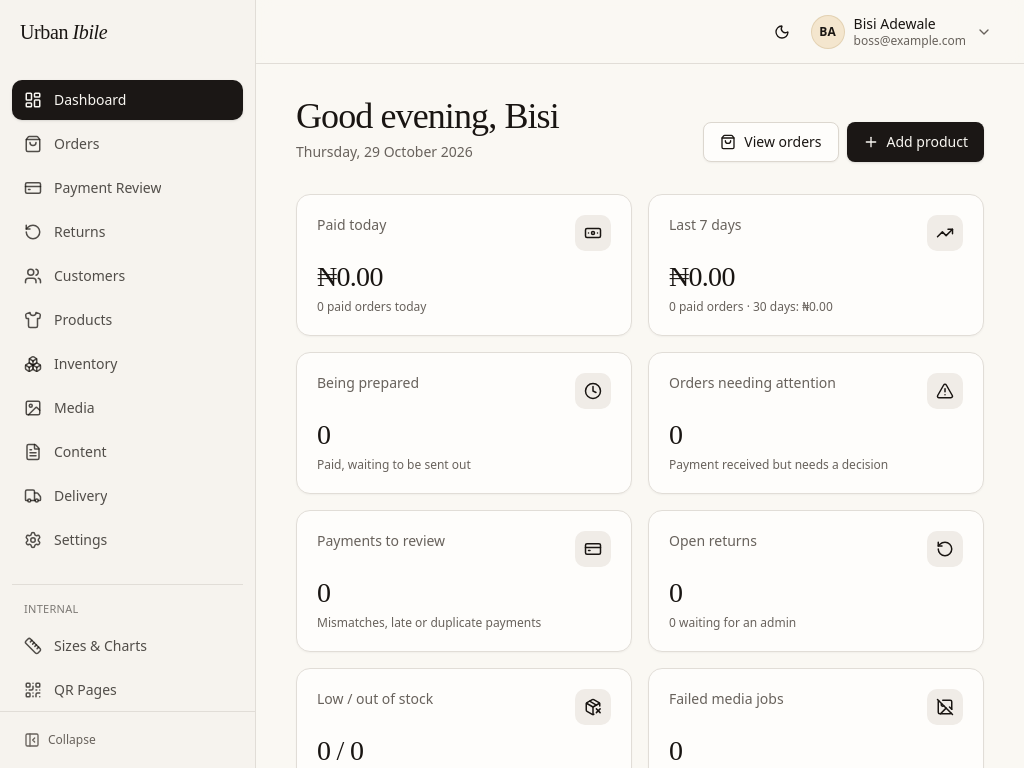
Sizes & Charts section › is in the sidebar and opens the Size Charts tab on the active version
The width and height of the screenshot is (1024, 768).
Click the link "Sizes & Charts": click(85, 645) [24,636,147,654]
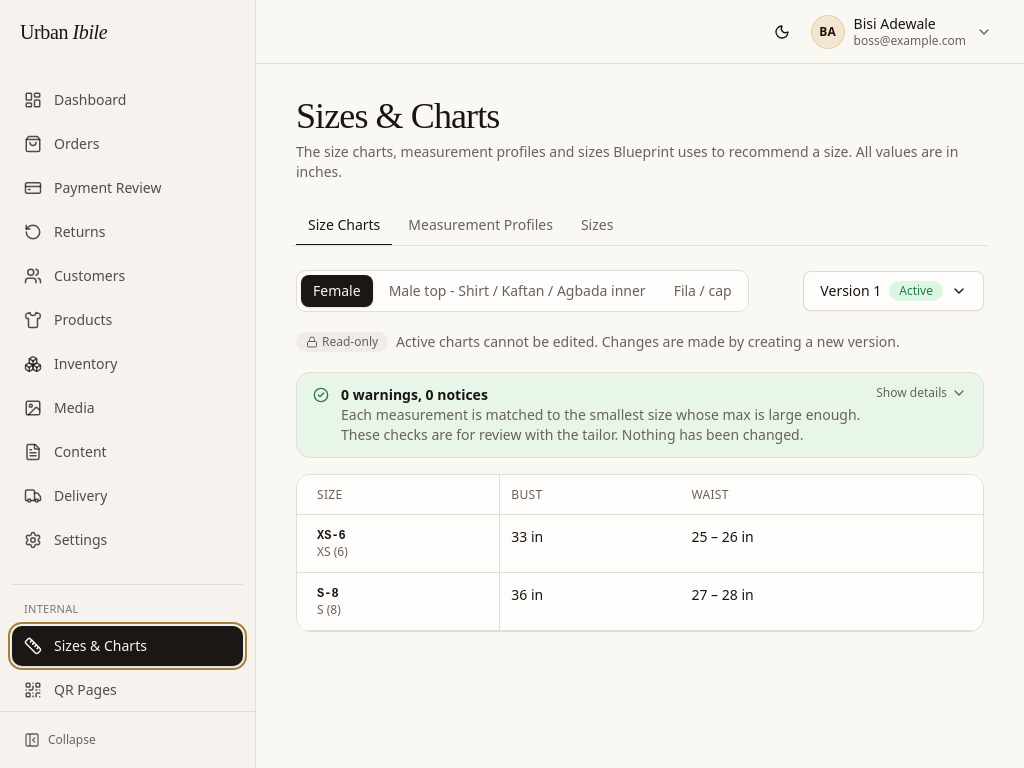
Now the button "Male top - Shirt / Kaftan / Agbada inner" is shown, box [377,275,658,307]
Now the text "Active charts cannot be edited" is shown, box [396,332,900,351]
Now the button "33 in" is shown, box [511,527,543,547]
